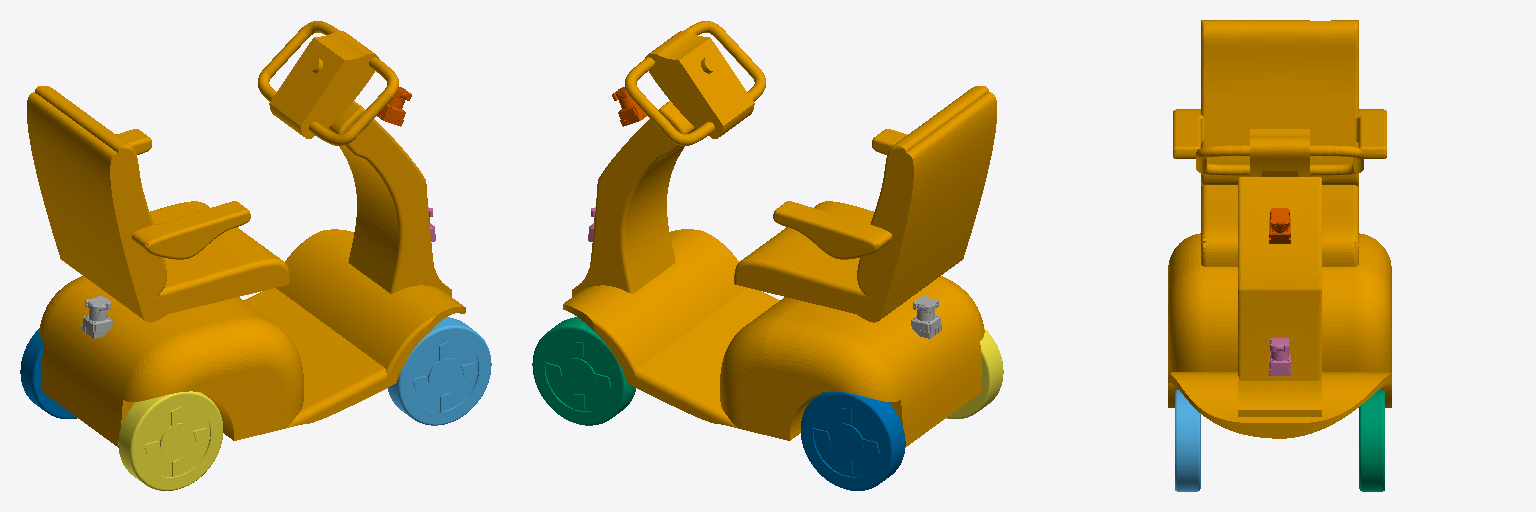
The robot description file, URDF, robot "origins":
<?xml version="1.0"?>
<robot name="origins">
  <link name="base_link">
    <visual>
      <geometry>
        <mesh filename="package://third_robot_description/meshes/third_robot/third_robot_body.dae"/>
      </geometry>
	  <origin rpy="0 0 0" xyz="0 0 0.55" />
    </visual>
  </link>

  <link name="right_front_wheel">
    <visual>
      <geometry>
		<mesh filename="package://third_robot_description/meshes/third_robot/third_robot_wheel.dae"/>
        </geometry>
      <origin rpy="0 0 0" xyz="0 0 0"/>
    </visual>
  </link>
  
  <joint name="base_to_right_front_wheel" type="continuous">
	<axis xyz="0 1 0"/>
    <parent link="base_link"/>
    <child link="right_front_wheel"/>
    <origin xyz="0.41 -0.25 0.14"/>
  </joint>

  <link name="left_front_wheel">
    <visual>
      <geometry>
		<mesh filename="package://third_robot_description/meshes/third_robot/third_robot_wheel.dae"/>
        </geometry>
      <origin rpy="3.14159 0 0" xyz="0 0 0"/>
    </visual>
  </link>
  
  <joint name="base_to_left_front_wheel" type="continuous">
	<axis xyz="0 1 0"/>
    <parent link="base_link"/>
    <child link="left_front_wheel"/>
    <origin xyz="0.41 0.25 0.14"/>
  </joint>

  <link name="right_rear_wheel">
    <visual>
      <geometry>
		<mesh filename="package://third_robot_description/meshes/third_robot/third_robot_wheel.dae"/>
        </geometry>
      <origin rpy="0 0 0" xyz="0 0 0"/>
    </visual>
  </link>
  
  <joint name="base_to_right_rear_wheel" type="continuous">
	<axis xyz="0 1 0"/>
    <parent link="base_link"/>
    <child link="right_rear_wheel"/>
    <origin xyz="-0.38 -0.25 0.14"/>
  </joint>

  <link name="left_rear_wheel">
    <visual>
      <geometry>
		<mesh filename="package://third_robot_description/meshes/third_robot/third_robot_wheel.dae"/>
        </geometry>
      <origin rpy="3.14159 0 0" xyz="0 0 0"/>
    </visual>
  </link>
  
  <joint name="base_to_left_rear_wheel" type="continuous">
	<axis xyz="0 1 0"/>
    <parent link="base_link"/>
    <child link="left_rear_wheel"/>
    <origin xyz="-0.38 0.25 0.14"/>
  </joint>

  <link name="front_top_lrf">
    <visual>
      <geometry>
		<mesh filename="package://third_robot_description/meshes/LRF/UTM-30LX.dae"/>
        </geometry>
      <origin rpy="0 0.5 0" xyz="0 0 0"/>
    </visual>
  </link>
  
  <joint name="base_to_front_top_lrf" type="fixed">
	<axis xyz="0 1 0"/>
    <parent link="base_link"/>
    <child link="front_top_lrf"/>
    <origin xyz="0.40 0 0.75"/>
  </joint>

  <link name="front_bottom_lrf">
    <visual>
      <geometry>
		<mesh filename="package://third_robot_description/meshes/LRF/UTM-30LX.dae"/>
        </geometry>
      <origin rpy="0 0 0" xyz="0 0 0"/>
    </visual>
  </link>
  
  <joint name="base_to_front_bottom_lrf" type="fixed">
	<axis xyz="0 1 0"/>
    <parent link="base_link"/>
    <child link="front_bottom_lrf"/>
    <origin xyz="0.50 0 0.39"/>
  </joint>

  <link name="rear_bottom_lrf">
	<visual>
      <geometry>
		<mesh filename="package://third_robot_description/meshes/LRF/UTM-30LX.dae"/>
        </geometry>
      <origin rpy="0 0 3.14" xyz="0 0 0"/>
    </visual>
  </link>
  
  <joint name="base_to_rear_bottom_lrf" type="fixed">
	<axis xyz="0 1 0"/>
    <parent link="base_link"/>
    <child link="rear_bottom_lrf"/>
    <origin xyz="-0.45 0 0.35"/>
  </joint>

</robot>

--- What the picture shows (computed from the rendered views, not written in the file) ---
3 views of the same robot in one strip: view 1: azimuth 30°, elevation 25°; view 2: azimuth 150°, elevation 25°; view 3: azimuth 270°, elevation 25° (orthographic).
Robot: origins — 8 links, 7 joints (4 continuous, 3 fixed); root link base_link; default pose: all joints at 0.
Visible links, largest first — view 1: base_link, right_rear_wheel, right_front_wheel, left_rear_wheel, rear_bottom_lrf, front_top_lrf; view 2: base_link, left_rear_wheel, left_front_wheel, right_rear_wheel, rear_bottom_lrf, front_top_lrf; view 3: base_link, left_front_wheel, right_front_wheel, front_bottom_lrf, front_top_lrf.
Link boxes in pixels (x1,y1,x2,y2): base_link: (27, 21, 465, 447); right_rear_wheel: (118, 391, 222, 490); right_front_wheel: (388, 317, 491, 425); left_rear_wheel: (20, 328, 76, 418); rear_bottom_lrf: (82, 296, 112, 338); front_top_lrf: (377, 87, 411, 126); base_link: (563, 21, 996, 447); left_rear_wheel: (801, 391, 905, 490); left_front_wheel: (532, 317, 635, 425); right_rear_wheel: (947, 328, 1003, 418); rear_bottom_lrf: (911, 296, 941, 338); front_top_lrf: (612, 87, 646, 126); base_link: (1168, 20, 1391, 438); left_front_wheel: (1359, 390, 1384, 491); right_front_wheel: (1175, 390, 1200, 491); front_bottom_lrf: (1269, 338, 1290, 375); front_top_lrf: (1269, 208, 1290, 243).
Bounding box of the posed robot: 1.08 × 0.605 × 0.9874 m (x, y, z).
Meshes: 3 distinct files referenced, 8 mesh visuals loaded (3 Collada DAE).